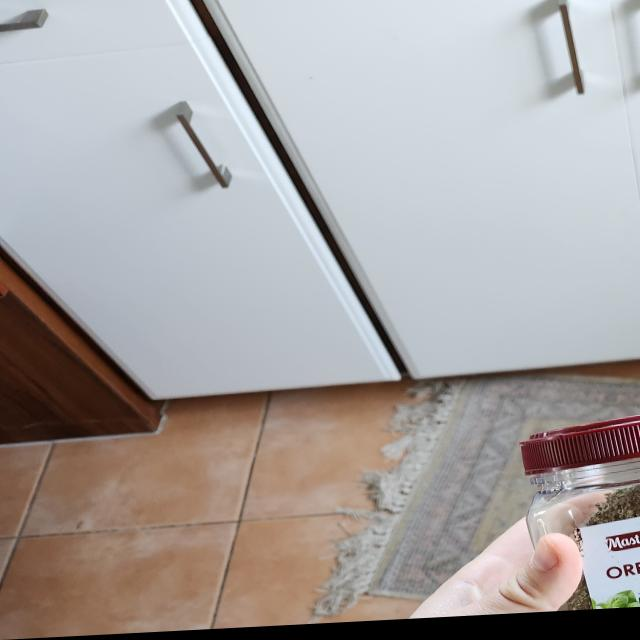oregano: (516, 412, 640, 619)
